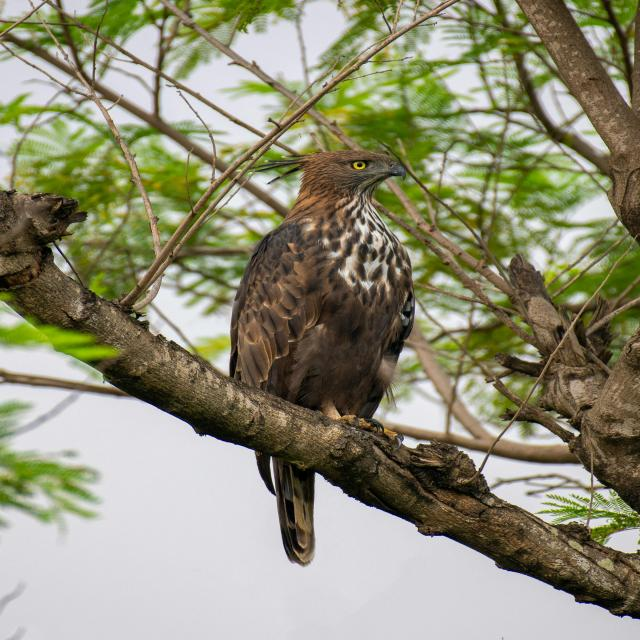Elang Jawa: (203, 132, 454, 576)
